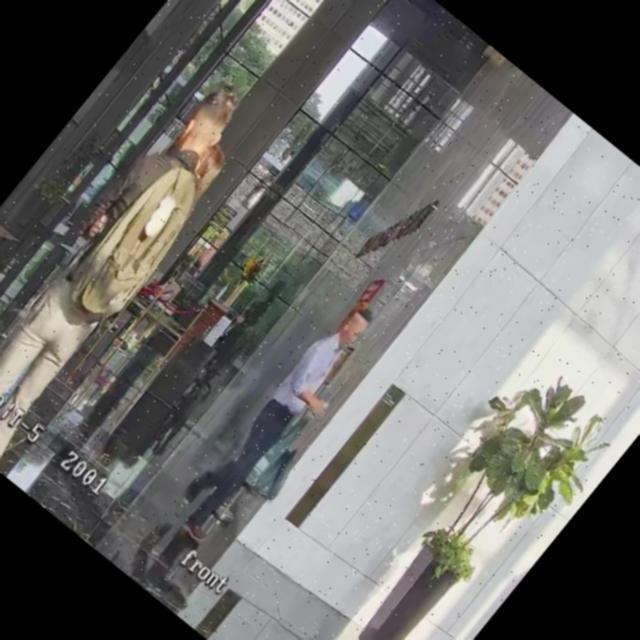person: (0, 67, 278, 469), (164, 291, 392, 554), (208, 306, 259, 364)
